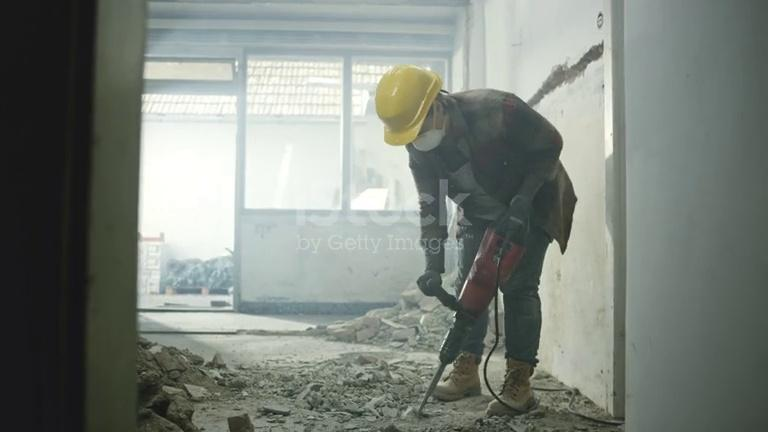helmet: (375, 63, 443, 146)
mask: (403, 122, 445, 152)
person: (373, 65, 579, 418)
